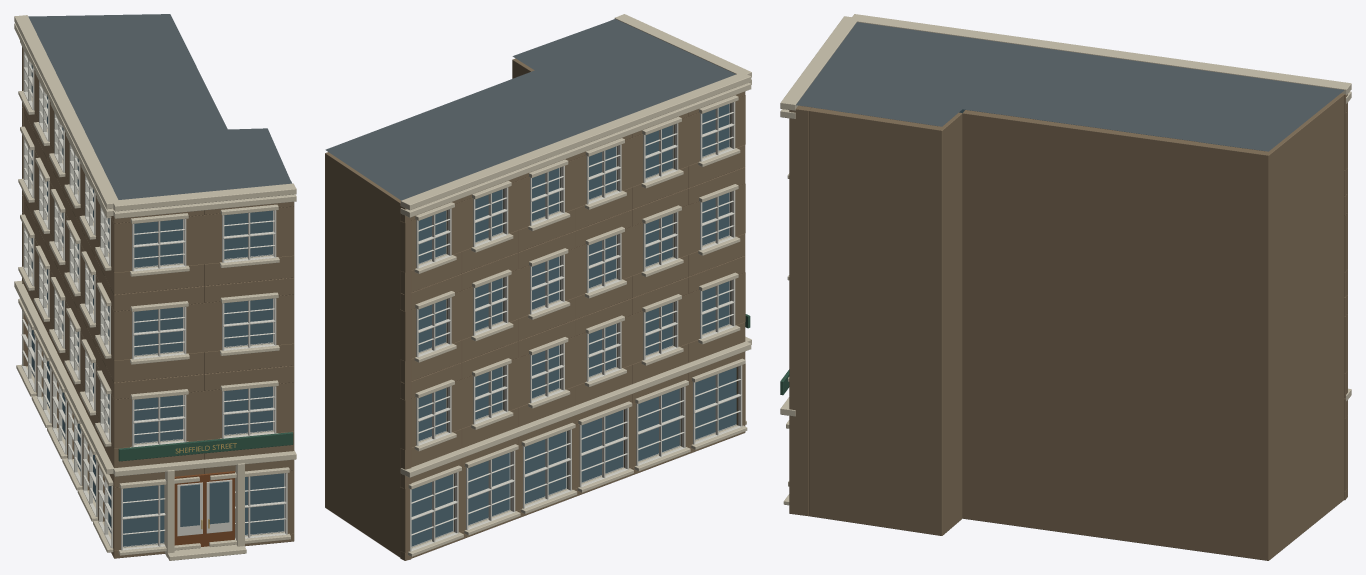
The model's file is shf-exterior-0a4f01d598d9.glb.
The picture shows the model from 3 angles, left to right: view 1: azimuth 30°, elevation 25°; view 2: azimuth 150°, elevation 25°; view 3: azimuth 270°, elevation 25°; orthographic projection. The views are drawn at different scales.
Parts seen in each view (by area): view 1: SHF.001; view 2: SHF.001; view 3: SHF.001.
Part boxes in pixels (<box>): SHF.001: <box>14,14,296,560</box>; SHF.001: <box>325,14,751,560</box>; SHF.001: <box>780,14,1351,560</box>.
Bounding box in the file's own units: 9.41 × 13.15 × 16.59.
